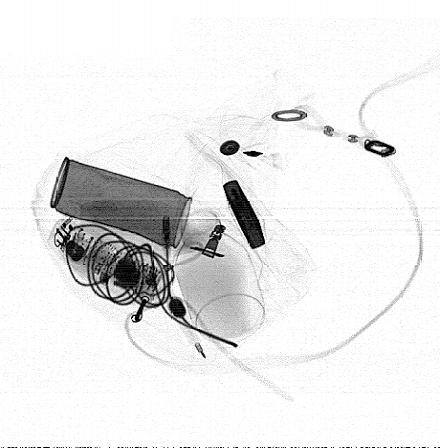Lighter: (222, 179, 266, 250)
